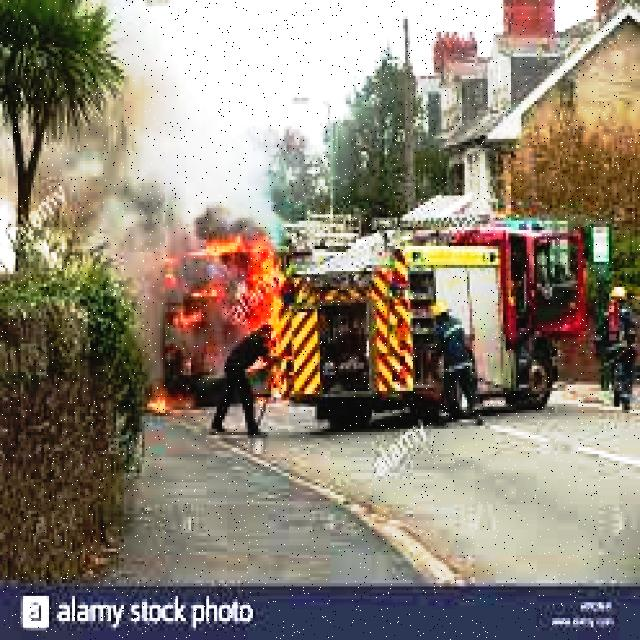api: (156, 225, 311, 389)
